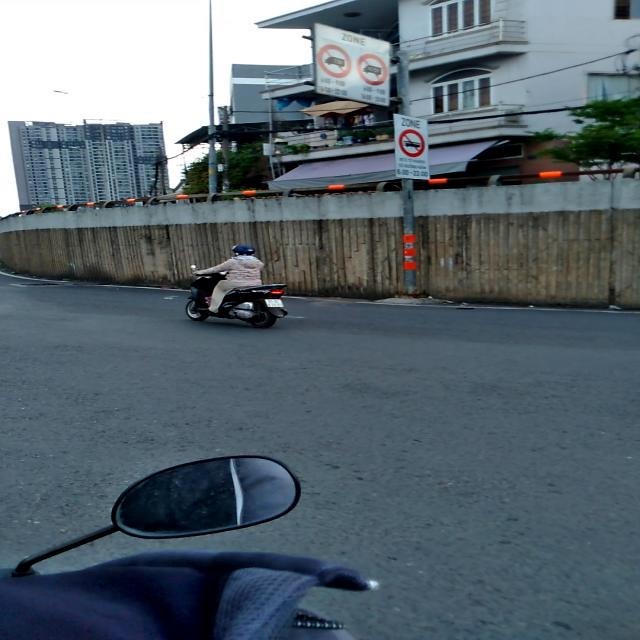Han che chieu cao: (317, 44, 352, 78), (356, 53, 388, 86)
